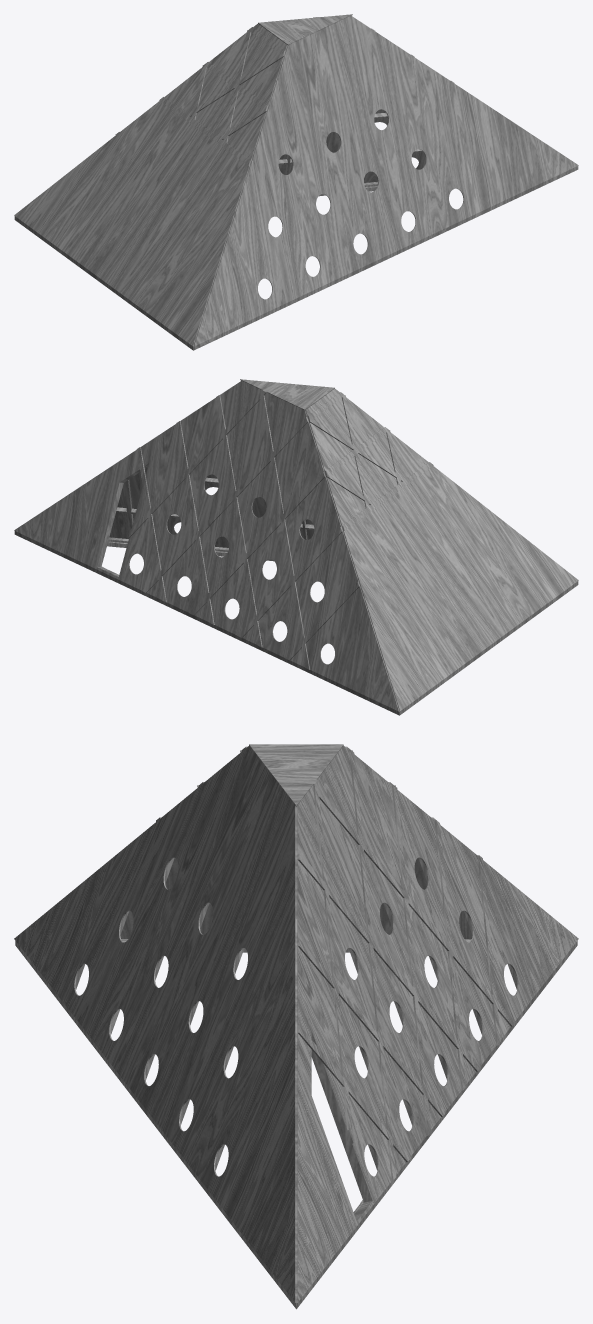
The model's file is About_Time.gltf.
The picture shows the model from 3 angles, top to bottom: view 1: azimuth 30°, elevation 25°; view 2: azimuth 150°, elevation 25°; view 3: azimuth 270°, elevation 25°; orthographic projection. The views are drawn at different scales.
Parts seen in each view (by area): view 1: Assembly with Gnomon - Sundial-1[1]; view 2: Assembly with Gnomon - Sundial-1[1]; view 3: Assembly with Gnomon - Sundial-1[1].
Boxes of the visible parts, x1,y1,x2,y2 form: Assembly with Gnomon - Sundial-1[1]: (14,14,578,350); Assembly with Gnomon - Sundial-1[1]: (14,379,578,715); Assembly with Gnomon - Sundial-1[1]: (14,744,578,1309).
Bounding box in the file's own units: 9.36 × 3.96 × 6.12.
1 material, 1 textured.
